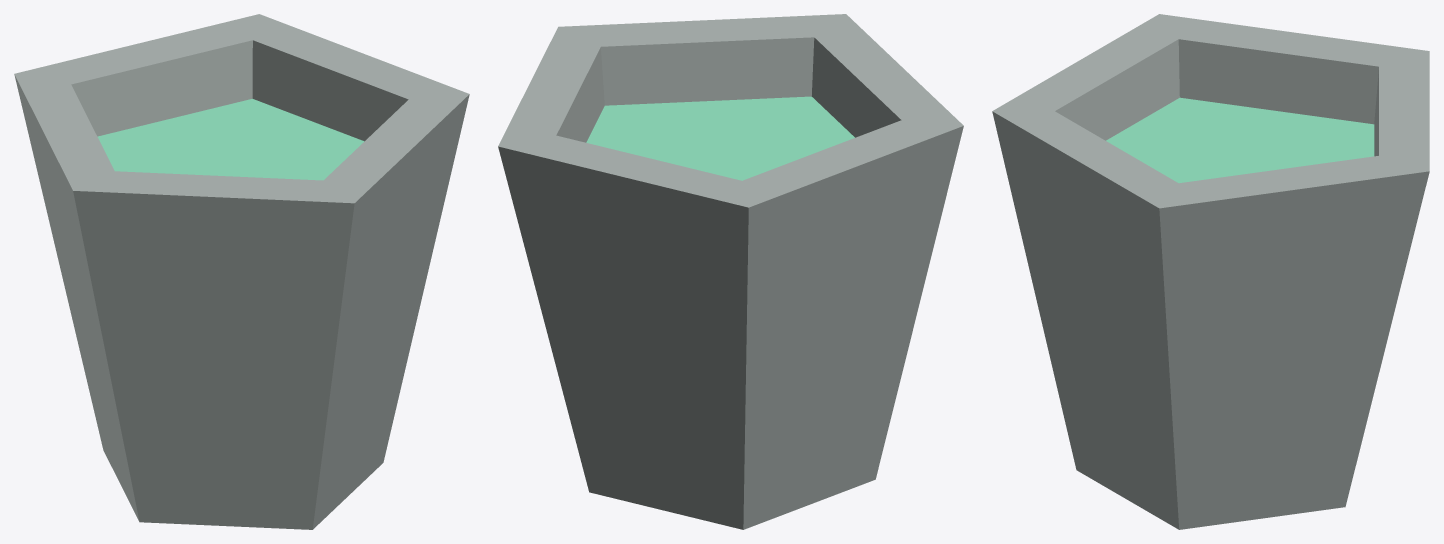
Rendered from Bucket_1.fbx.
3 views of the same model, side by side, from view 1: azimuth 30°, elevation 25°; view 2: azimuth 150°, elevation 25°; view 3: azimuth 270°, elevation 25° (orthographic). The views are drawn at different scales.
Visible parts, largest first — view 1: Bucket_1; view 2: Bucket_1; view 3: Bucket_1.
Boxes of the visible parts, x1,y1,x2,y2 form: Bucket_1: [14, 14, 469, 529]; Bucket_1: [498, 14, 963, 529]; Bucket_1: [992, 14, 1429, 529].
Size of the model in its own units: 51.25 by 44.12 by 48.74.
1 material, 1 textured.
